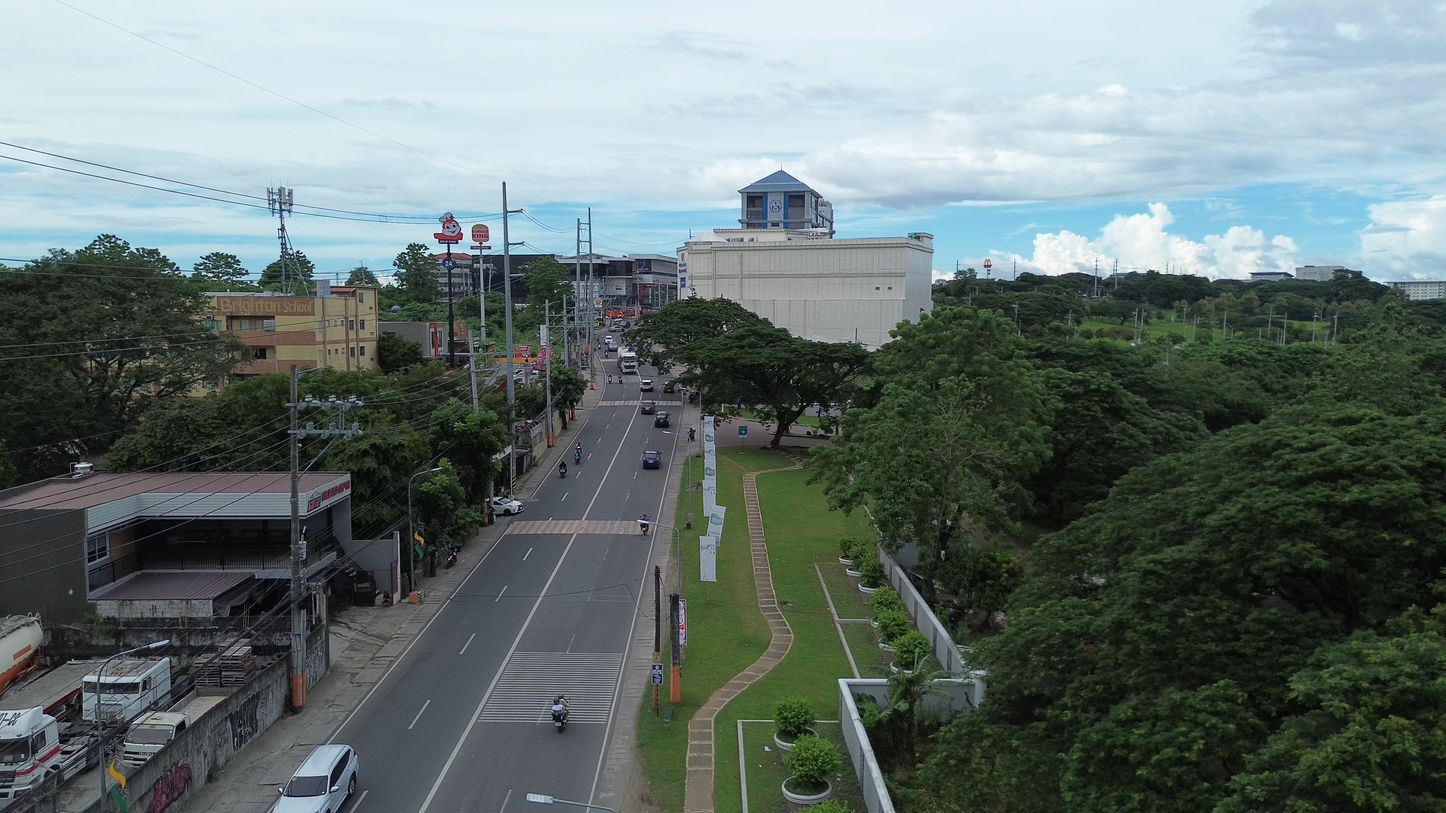car: (272, 744, 359, 813), (491, 497, 523, 515), (642, 451, 660, 469), (654, 411, 670, 427), (640, 400, 656, 414), (662, 380, 676, 393), (639, 379, 653, 391), (609, 323, 621, 332)
motorcycle: (552, 695, 568, 732), (445, 549, 457, 569), (638, 515, 650, 534)
truck: (122, 695, 224, 768)
vehicle: (0, 707, 98, 807), (84, 658, 171, 725), (0, 616, 43, 691), (619, 350, 637, 375), (609, 322, 621, 332)
